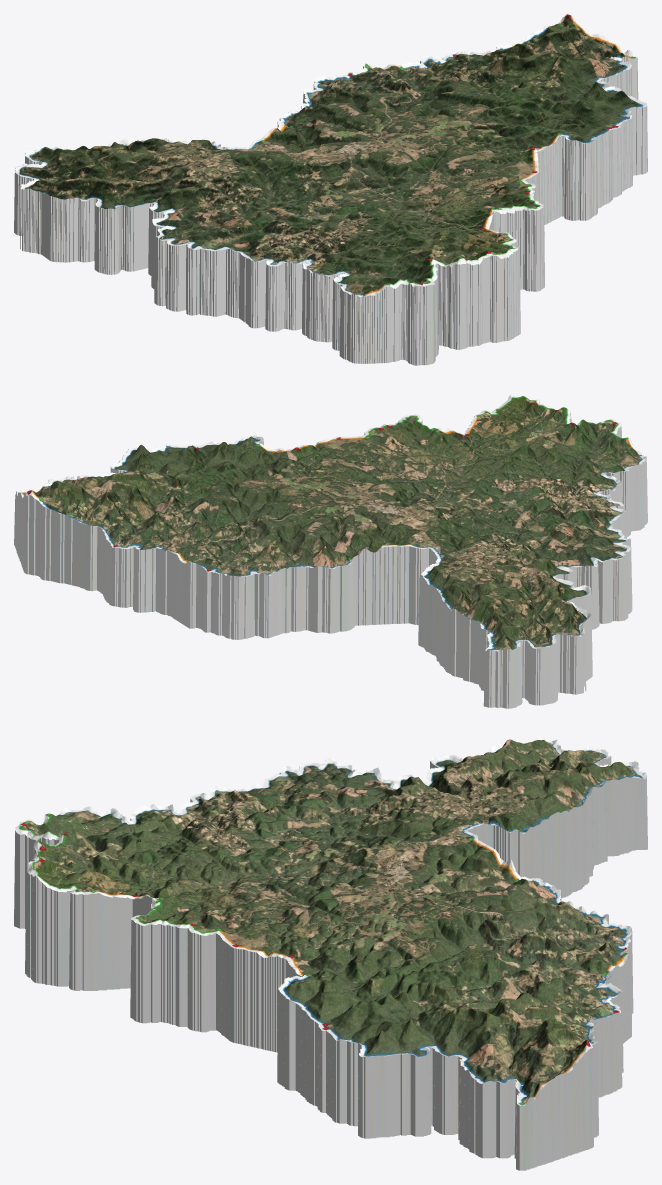
3 renders of one model, top to bottom at view 1: azimuth 30°, elevation 25°; view 2: azimuth 150°, elevation 25°; view 3: azimuth 270°, elevation 25°, orthographic. The views are drawn at different scales.
Bounding box in the file's own units: 1 × 0.14 × 0.7466.
1 material, 1 textured.
